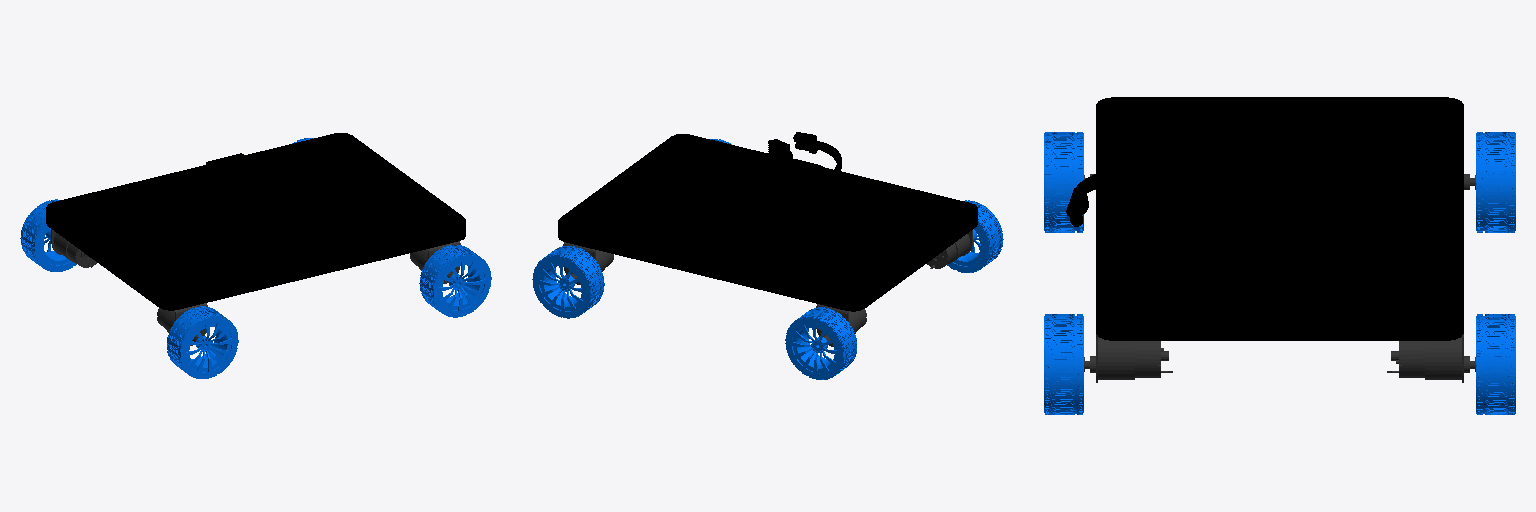
robot.urdf — car_assembly_2nd:
<?xml version="1.0" encoding="utf-8"?>
<!-- This URDF was automatically created by SolidWorks to URDF Exporter! Originally created by Stephen Brawner (brawner@gmail.com) 
     Commit Version: 1.6.0-4-g7f85cfe  Build Version: 1.6.7995.38578
     For more information, please see http://wiki.ros.org/sw_urdf_exporter -->
<robot
  name="car_assembly_2nd">
  <link
    name="base_link">
    <inertial>
      <origin
        xyz="0.190522368219364 0.0103418695994748 -0.134895584510907"
        rpy="0 0 0" />
      <mass
        value="15.9796443007305" />
      <inertia
        ixx="0.0973613917640338"
        ixy="-8.45473266785296E-09"
        ixz="-3.22034448741471E-05"
        iyy="0.289162264769716"
        iyz="2.7384134605884E-07"
        izz="0.192914326399058" />
    </inertial>
    <visual>
      <origin
        xyz="0 0 0"
        rpy="0 0 0" />
      <geometry>
        <mesh
          filename="package://car_assembly_2nd/meshes/base_link.STL" />
      </geometry>
      <material
        name="">
        <color
          rgba="0 0 0 1" />
      </material>
    </visual>
    <collision>
      <origin
        xyz="0 0 0"
        rpy="0 0 0" />
      <geometry>
        <mesh
          filename="package://car_assembly_2nd/meshes/base_link.STL" />
      </geometry>
    </collision>
  </link>
  <link
    name="motor_wheel_front_left">
    <inertial>
      <origin
        xyz="0.0199833488842991 0.0274655892946105 -0.0261241639211302"
        rpy="0 0 0" />
      <mass
        value="0.0609479844758543" />
      <inertia
        ixx="1.26736089825901E-05"
        ixy="1.66692161747626E-09"
        ixz="3.47880202246441E-09"
        iyy="1.24896099102956E-05"
        iyz="4.49025609740727E-07"
        izz="8.11996766803107E-06" />
    </inertial>
    <visual>
      <origin
        xyz="0 0 0"
        rpy="0 0 0" />
      <geometry>
        <mesh
          filename="package://car_assembly_2nd/meshes/motor_wheel_front_left.STL" />
      </geometry>
      <material
        name="">
        <color
          rgba="0.250980392156863 0.250980392156863 0.250980392156863 1" />
      </material>
    </visual>
    <collision>
      <origin
        xyz="0 0 0"
        rpy="0 0 0" />
      <geometry>
        <mesh
          filename="package://car_assembly_2nd/meshes/motor_wheel_front_left.STL" />
      </geometry>
    </collision>
  </link>
  <joint
    name="motor_wheel_front_left_mount_joint"
    type="fixed">
    <origin
      xyz="0.368753629117722 0.23 0"
      rpy="-1.5707963267949 0 3.14159265358979" />
    <parent
      link="base_link" />
    <child
      link="motor_wheel_front_left" />
    <axis
      xyz="0 0 0" />
  </joint>
  <link
    name="wheel_front_left">
    <inertial>
      <origin
        xyz="4.7645781764416E-10 4.24781598784563E-11 0.000346368027920485"
        rpy="0 0 0" />
      <mass
        value="0.0678065474248877" />
      <inertia
        ixx="3.60542994873463E-05"
        ixy="1.08127936671639E-13"
        ixz="-3.22716683865615E-13"
        iyy="3.6054298324133E-05"
        iyz="-2.91858764464328E-14"
        izz="6.29701255128864E-05" />
    </inertial>
    <visual>
      <origin
        xyz="0 0 0"
        rpy="0 0 0" />
      <geometry>
        <mesh
          filename="package://car_assembly_2nd/meshes/wheel_front_left.STL" />
      </geometry>
      <material
        name="">
        <color
          rgba="0.0274509803921569 0.494117647058824 1 1" />
      </material>
    </visual>
    <collision>
      <origin
        xyz="0 0 0"
        rpy="0 0 0" />
      <geometry>
        <mesh
          filename="package://car_assembly_2nd/meshes/wheel_front_left.STL" />
      </geometry>
    </collision>
  </link>
  <joint
    name="wheel_front_left_spin_joint"
    type="continuous">
    <origin
      xyz="0.020011 0.033989 -0.0633"
      rpy="3.1416 0 2.4869" />
    <parent
      link="motor_wheel_front_left" />
    <child
      link="wheel_front_left" />
    <axis
      xyz="0 0 1" />
  </joint>
  <link
    name="motor_wheel_front_right">
    <inertial>
      <origin
        xyz="0.0199798411110088 0.0274643880718 -0.0261241639211227"
        rpy="0 0 0" />
      <mass
        value="0.0609479844758542" />
      <inertia
        ixx="1.26764438820347E-05"
        ixy="-1.76200566748839E-09"
        ixz="3.65170455204801E-09"
        iyy="1.24867750108509E-05"
        iyz="4.49103699333472E-07"
        izz="8.11996766803104E-06" />
    </inertial>
    <visual>
      <origin
        xyz="0 0 0"
        rpy="0 0 0" />
      <geometry>
        <mesh
          filename="package://car_assembly_2nd/meshes/motor_wheel_front_right.STL" />
      </geometry>
      <material
        name="">
        <color
          rgba="0.250980392156863 0.250980392156863 0.250980392156863 1" />
      </material>
    </visual>
    <collision>
      <origin
        xyz="0 0 0"
        rpy="0 0 0" />
      <geometry>
        <mesh
          filename="package://car_assembly_2nd/meshes/motor_wheel_front_right.STL" />
      </geometry>
    </collision>
  </link>
  <joint
    name="motor_wheel_front_right_mount_joint"
    type="fixed">
    <origin
      xyz="0.328753629117722 0.04 0"
      rpy="-1.5707963267949 0 0" />
    <parent
      link="base_link" />
    <child
      link="motor_wheel_front_right" />
    <axis
      xyz="0 0 0" />
  </joint>
  <link
    name="wheel_front_right">
    <inertial>
      <origin
        xyz="4.76457193143709E-10 4.24774659890659E-11 0.000346368027920541"
        rpy="0 0 0" />
      <mass
        value="0.0678065474248897" />
      <inertia
        ixx="3.6054299487347E-05"
        ixy="1.0812834965314E-13"
        ixz="-3.22716515402324E-13"
        iyy="3.60542983241339E-05"
        iyz="-2.91858007751506E-14"
        izz="6.29701255128879E-05" />
    </inertial>
    <visual>
      <origin
        xyz="0 0 0"
        rpy="0 0 0" />
      <geometry>
        <mesh
          filename="package://car_assembly_2nd/meshes/wheel_front_right.STL" />
      </geometry>
      <material
        name="">
        <color
          rgba="0.0274509803921569 0.494117647058824 1 1" />
      </material>
    </visual>
    <collision>
      <origin
        xyz="0 0 0"
        rpy="0 0 0" />
      <geometry>
        <mesh
          filename="package://car_assembly_2nd/meshes/wheel_front_right.STL" />
      </geometry>
    </collision>
  </link>
  <joint
    name="wheel_front_right_spin_joint"
    type="continuous">
    <origin
      xyz="0.019998 0.033984 -0.0633"
      rpy="3.1416 0 1.5466" />
    <parent
      link="motor_wheel_front_right" />
    <child
      link="wheel_front_right" />
    <axis
      xyz="0 0 1" />
  </joint>
  <link
    name="motor_wheel_rear_right">
    <inertial>
      <origin
        xyz="0.0199764547597838 0.0274674027641655 -0.02612416392124"
        rpy="0 0 0" />
      <mass
        value="0.0609479844758542" />
      <inertia
        ixx="1.26714181501625E-05"
        ixy="-2.50606237557996E-09"
        ixz="3.83873127979572E-09"
        iyy="1.24918007427231E-05"
        iyz="4.48966441340802E-07"
        izz="8.11996766803104E-06" />
    </inertial>
    <visual>
      <origin
        xyz="0 0 0"
        rpy="0 0 0" />
      <geometry>
        <mesh
          filename="package://car_assembly_2nd/meshes/motor_wheel_rear_right.STL" />
      </geometry>
      <material
        name="">
        <color
          rgba="0.250980392156863 0.250980392156863 0.250980392156863 1" />
      </material>
    </visual>
    <collision>
      <origin
        xyz="0 0 0"
        rpy="0 0 0" />
      <geometry>
        <mesh
          filename="package://car_assembly_2nd/meshes/motor_wheel_rear_right.STL" />
      </geometry>
    </collision>
  </link>
  <joint
    name="motor_wheel_rear_right_mount_joint"
    type="fixed">
    <origin
      xyz="0.012258767576493 0.0399999999999998 0"
      rpy="-1.5707963267949 0 0" />
    <parent
      link="base_link" />
    <child
      link="motor_wheel_rear_right" />
    <axis
      xyz="0 0 0" />
  </joint>
  <link
    name="wheel_rear_right">
    <inertial>
      <origin
        xyz="4.76457401310526E-10 4.24773619056573E-11 0.00034636802792052"
        rpy="0 0 0" />
      <mass
        value="0.0678065474248889" />
      <inertia
        ixx="3.60542994873471E-05"
        ixy="1.08128122171855E-13"
        ixz="-3.22716583261657E-13"
        iyy="3.60542983241334E-05"
        iyz="-2.91858545330613E-14"
        izz="6.29701255128874E-05" />
    </inertial>
    <visual>
      <origin
        xyz="0 0 0"
        rpy="0 0 0" />
      <geometry>
        <mesh
          filename="package://car_assembly_2nd/meshes/wheel_rear_right.STL" />
      </geometry>
      <material
        name="">
        <color
          rgba="0.0274509803921569 0.494117647058824 1 1" />
      </material>
    </visual>
    <collision>
      <origin
        xyz="0 0 0"
        rpy="0 0 0" />
      <geometry>
        <mesh
          filename="package://car_assembly_2nd/meshes/wheel_rear_right.STL" />
      </geometry>
    </collision>
  </link>
  <joint
    name="wheel_rear_right_spin_joint"
    type="continuous">
    <origin
      xyz="0.019985 0.033996 -0.0633"
      rpy="3.1416 0 0.37227" />
    <parent
      link="motor_wheel_rear_right" />
    <child
      link="wheel_rear_right" />
    <axis
      xyz="0 0 1" />
  </joint>
  <link
    name="motor_wheel_rear_left">
    <inertial>
      <origin
        xyz="0.0199833488842969 0.0274655892946121 -0.0261241639211299"
        rpy="0 0 0" />
      <mass
        value="0.0609479844758541" />
      <inertia
        ixx="1.267360898259E-05"
        ixy="1.66692161747945E-09"
        ixz="3.47880202245212E-09"
        iyy="1.24896099102956E-05"
        iyz="4.49025609740716E-07"
        izz="8.11996766803106E-06" />
    </inertial>
    <visual>
      <origin
        xyz="0 0 0"
        rpy="0 0 0" />
      <geometry>
        <mesh
          filename="package://car_assembly_2nd/meshes/motor_wheel_rear_left.STL" />
      </geometry>
      <material
        name="">
        <color
          rgba="0.250980392156863 0.250980392156863 0.250980392156863 1" />
      </material>
    </visual>
    <collision>
      <origin
        xyz="0 0 0"
        rpy="0 0 0" />
      <geometry>
        <mesh
          filename="package://car_assembly_2nd/meshes/motor_wheel_rear_left.STL" />
      </geometry>
    </collision>
  </link>
  <joint
    name="motor_wheel_rear_left_mount_joint"
    type="fixed">
    <origin
      xyz="0.052259 0.23 0"
      rpy="-1.5708 0 3.1416" />
    <parent
      link="base_link" />
    <child
      link="motor_wheel_rear_left" />
    <axis
      xyz="0 0 0" />
  </joint>
  <link
    name="wheel_rear_left">
    <inertial>
      <origin
        xyz="4.76457415188314E-10 4.24774729279598E-11 0.000346368027920541"
        rpy="0 0 0" />
      <mass
        value="0.0678065474248883" />
      <inertia
        ixx="3.60542994873466E-05"
        ixy="1.08128063726581E-13"
        ixz="-3.22716603476333E-13"
        iyy="3.60542983241331E-05"
        iyz="-2.91858390092463E-14"
        izz="6.29701255128869E-05" />
    </inertial>
    <visual>
      <origin
        xyz="0 0 0"
        rpy="0 0 0" />
      <geometry>
        <mesh
          filename="package://car_assembly_2nd/meshes/wheel_rear_left.STL" />
      </geometry>
      <material
        name="">
        <color
          rgba="0.0274509803921569 0.494117647058824 1 1" />
      </material>
    </visual>
    <collision>
      <origin
        xyz="0 0 0"
        rpy="0 0 0" />
      <geometry>
        <mesh
          filename="package://car_assembly_2nd/meshes/wheel_rear_left.STL" />
      </geometry>
    </collision>
  </link>
  <joint
    name="wheel_rear_left_spin_joint"
    type="continuous">
    <origin
      xyz="0.020011 0.033989 -0.0633"
      rpy="3.1416 0 2.4869" />
    <parent
      link="motor_wheel_rear_left" />
    <child
      link="wheel_rear_left" />
    <axis
      xyz="0 0 1" />
  </joint>
</robot>

--- What the picture shows (computed from the rendered views, not written in the file) ---
Views: 3 orthographic renders of the robot side by side, from view 1: azimuth 30°, elevation 25°; view 2: azimuth 150°, elevation 25°; view 3: azimuth 270°, elevation 25°.
Model car_assembly_2nd with 9 links and 8 joints (4 continuous, 4 fixed), rooted at base_link, posed every joint at zero.
Visible links, largest first — view 1: base_link, wheel_front_right, wheel_rear_right, wheel_rear_left, motor_wheel_rear_left; view 2: base_link, wheel_front_left, wheel_rear_left, wheel_rear_right, motor_wheel_rear_right; view 3: base_link, wheel_front_left, wheel_rear_left, wheel_front_right, wheel_rear_right, motor_wheel_front_left, motor_wheel_front_right.
Link boxes in pixels (left/top/right/bottom): base_link: left=46, top=133, right=465, bottom=310; wheel_front_right: left=419, top=245, right=491, bottom=317; wheel_rear_right: left=167, top=306, right=238, bottom=378; wheel_rear_left: left=20, top=199, right=76, bottom=271; motor_wheel_rear_left: left=51, top=229, right=96, bottom=267; base_link: left=558, top=132, right=977, bottom=311; wheel_front_left: left=532, top=246, right=604, bottom=318; wheel_rear_left: left=785, top=307, right=856, bottom=379; wheel_rear_right: left=947, top=200, right=1003, bottom=272; motor_wheel_rear_right: left=927, top=230, right=972, bottom=268; base_link: left=1066, top=97, right=1463, bottom=340; wheel_front_left: left=1476, top=314, right=1515, bottom=414; wheel_rear_left: left=1476, top=132, right=1515, bottom=232; wheel_front_right: left=1044, top=314, right=1083, bottom=414; wheel_rear_right: left=1044, top=132, right=1083, bottom=232; motor_wheel_front_left: left=1387, top=334, right=1475, bottom=382; motor_wheel_front_right: left=1084, top=334, right=1172, bottom=382.
Bounding box of the posed robot: 0.3905 × 0.3456 × 0.1295 m (x, y, z).
Meshes: 9 distinct files referenced, 9 mesh visuals loaded (9 binary STL).
